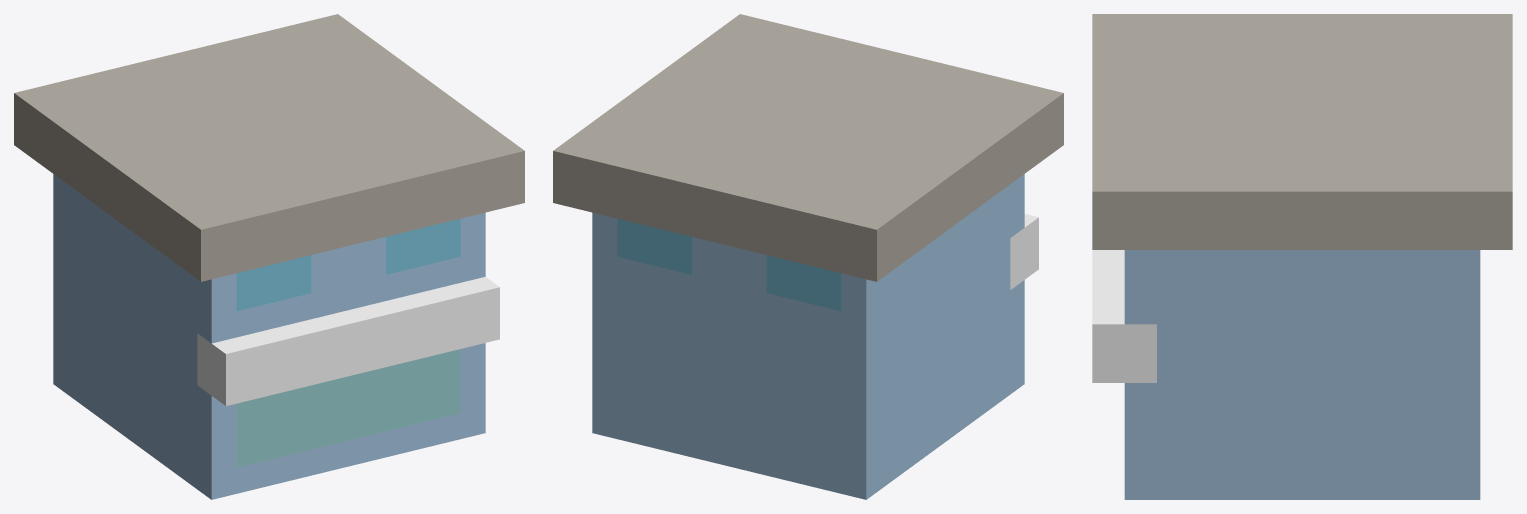
Rendered from shop_2.glb.
3 views of the same model, side by side, from view 1: azimuth 30°, elevation 25°; view 2: azimuth 150°, elevation 25°; view 3: azimuth 270°, elevation 25° (orthographic). The views are drawn at different scales.
Visible parts, largest first — view 1: shop_2_roof_flat, shop_2_wall_blue, shop_2_white, shop_2_glass, shop_2_window; view 2: shop_2_wall_blue, shop_2_roof_flat, shop_2_window, shop_2_white; view 3: shop_2_roof_flat, shop_2_wall_blue, shop_2_white.
Boxes of the visible parts, x1,y1,x2,y2 form: shop_2_roof_flat: (14,14,524,281); shop_2_wall_blue: (53,174,485,499); shop_2_white: (197,277,499,405); shop_2_glass: (236,349,460,467); shop_2_window: (236,218,460,311); shop_2_wall_blue: (592,174,1024,499); shop_2_roof_flat: (553,14,1063,281); shop_2_window: (617,218,841,311); shop_2_white: (1010,214,1038,289); shop_2_roof_flat: (1092,14,1512,249); shop_2_wall_blue: (1124,250,1480,499); shop_2_white: (1092,250,1156,382).
Size of the model in its own units: 9.88 by 8.36 by 9.88.
